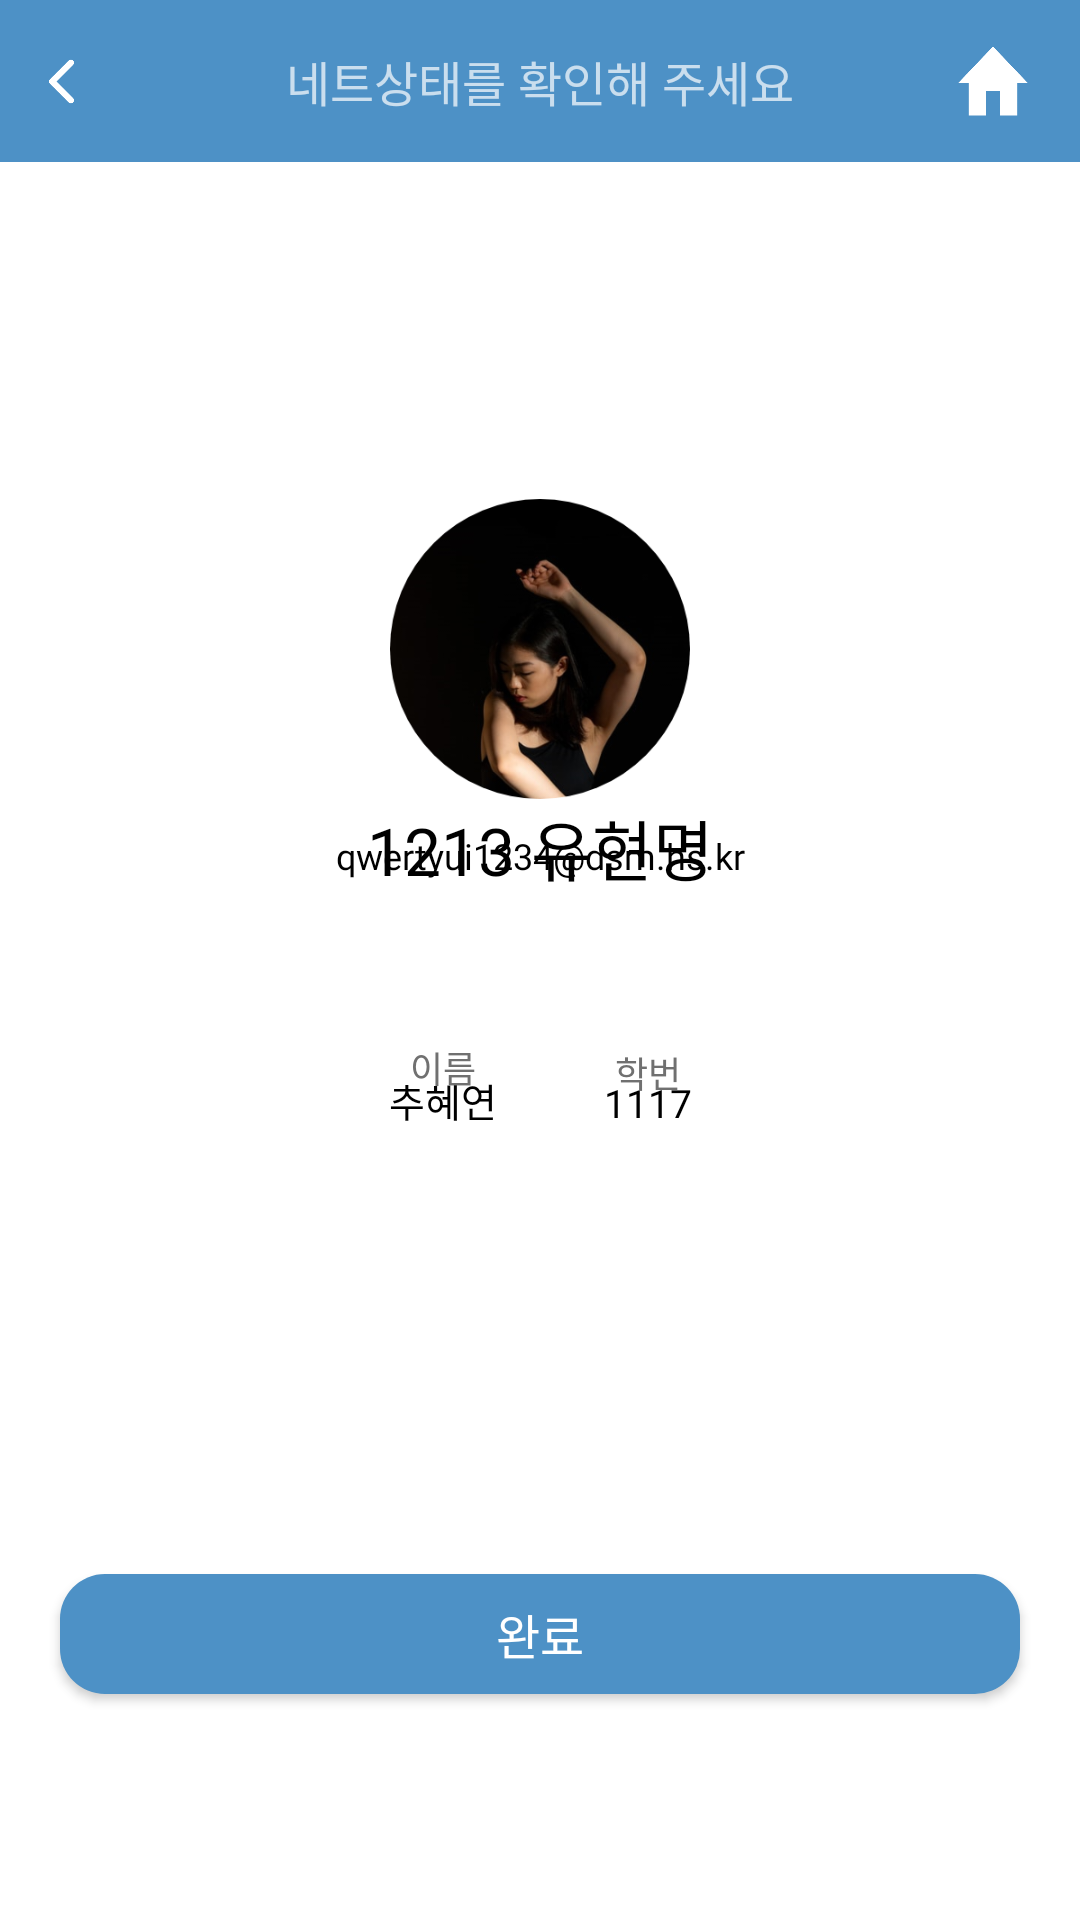

Named icons in this screenshot (1080*1920) and their bounding boxes, (x1, y1, x2, y2):
backbutton: (49, 60, 74, 103)
home: (958, 47, 1028, 116)
mypage profile example: (390, 499, 690, 799)
